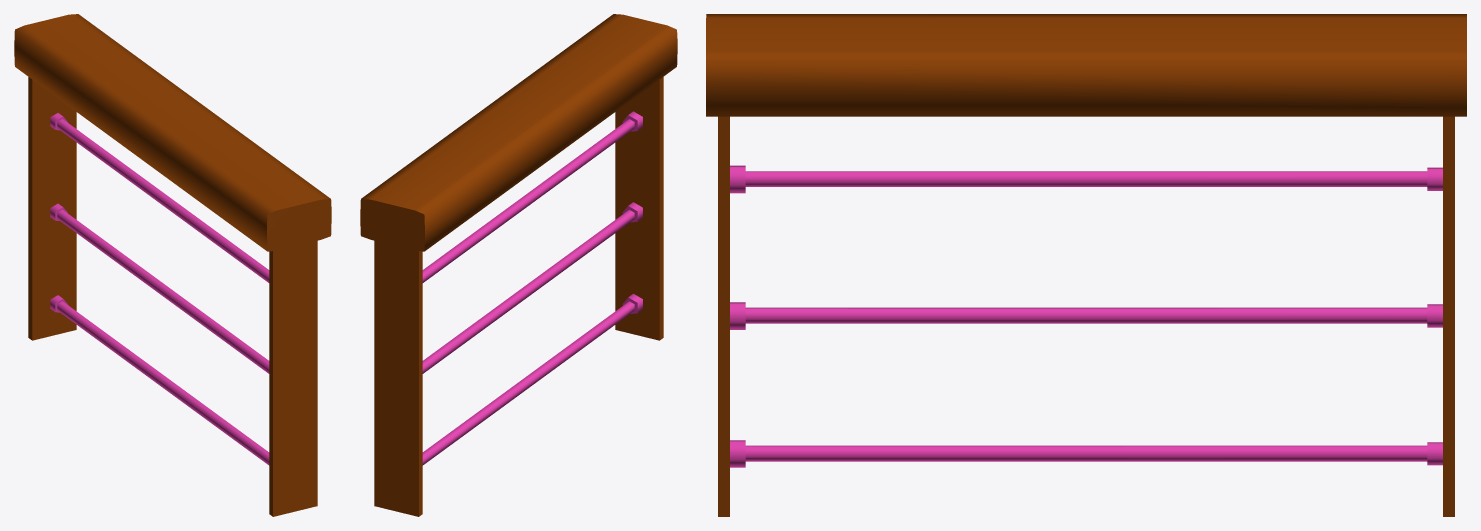
File: Handrail.FBX
3 renders of one model, left to right at view 1: azimuth 30°, elevation 25°; view 2: azimuth 150°, elevation 25°; view 3: azimuth 270°, elevation 25°, orthographic. The views are drawn at different scales.
Visible parts, largest first — view 1: Box001, Cylinder003, Cylinder001, Cylinder002; view 2: Box001, Cylinder002, Cylinder001, Cylinder003; view 3: Box001, Cylinder002, Cylinder003, Cylinder001.
Part boxes in pixels (box(x1,y1,x2,y2)): Box001: box(14, 14, 331, 516); Cylinder003: box(50, 295, 269, 465); Cylinder001: box(50, 113, 269, 282); Cylinder002: box(50, 203, 269, 373); Box001: box(360, 14, 677, 516); Cylinder002: box(422, 202, 642, 373); Cylinder001: box(422, 111, 642, 282); Cylinder003: box(422, 293, 642, 465); Box001: box(706, 14, 1466, 516); Cylinder002: box(730, 302, 1442, 329); Cylinder003: box(730, 440, 1442, 467); Cylinder001: box(730, 165, 1442, 193).
Size of the model in its own units: 19 by 86.49 by 128.
